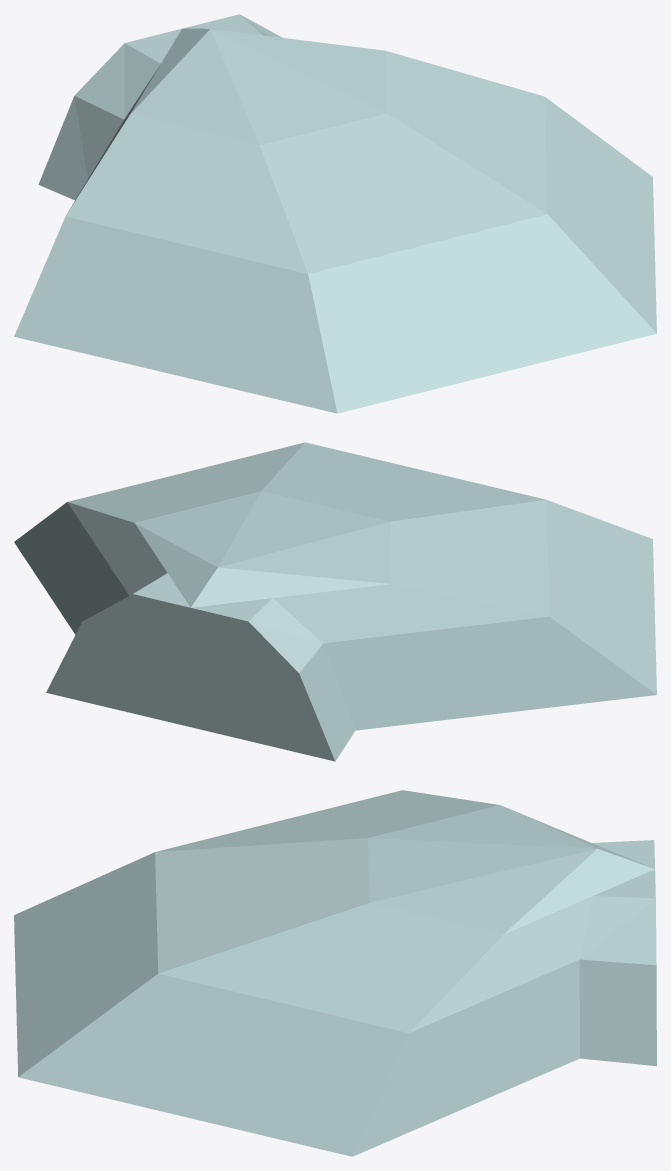
Rendered from Underwater_Temple_Sea_Shell_Clam_01.fbx.
3 views of the same model, one above another, from view 1: azimuth 30°, elevation 25°; view 2: azimuth 150°, elevation 25°; view 3: azimuth 270°, elevation 25° (orthographic). The views are drawn at different scales.
Visible parts, largest first — view 1: Underwater_Temple_Sea_Shell_Clam_01; view 2: Underwater_Temple_Sea_Shell_Clam_01; view 3: Underwater_Temple_Sea_Shell_Clam_01.
Boxes of the visible parts, <box> form: Underwater_Temple_Sea_Shell_Clam_01: <box>14,14,656,413</box>; Underwater_Temple_Sea_Shell_Clam_01: <box>14,442,656,761</box>; Underwater_Temple_Sea_Shell_Clam_01: <box>14,790,656,1156</box>.
Bounding box in the file's own units: 0.225 × 0.0469 × 0.1886.
